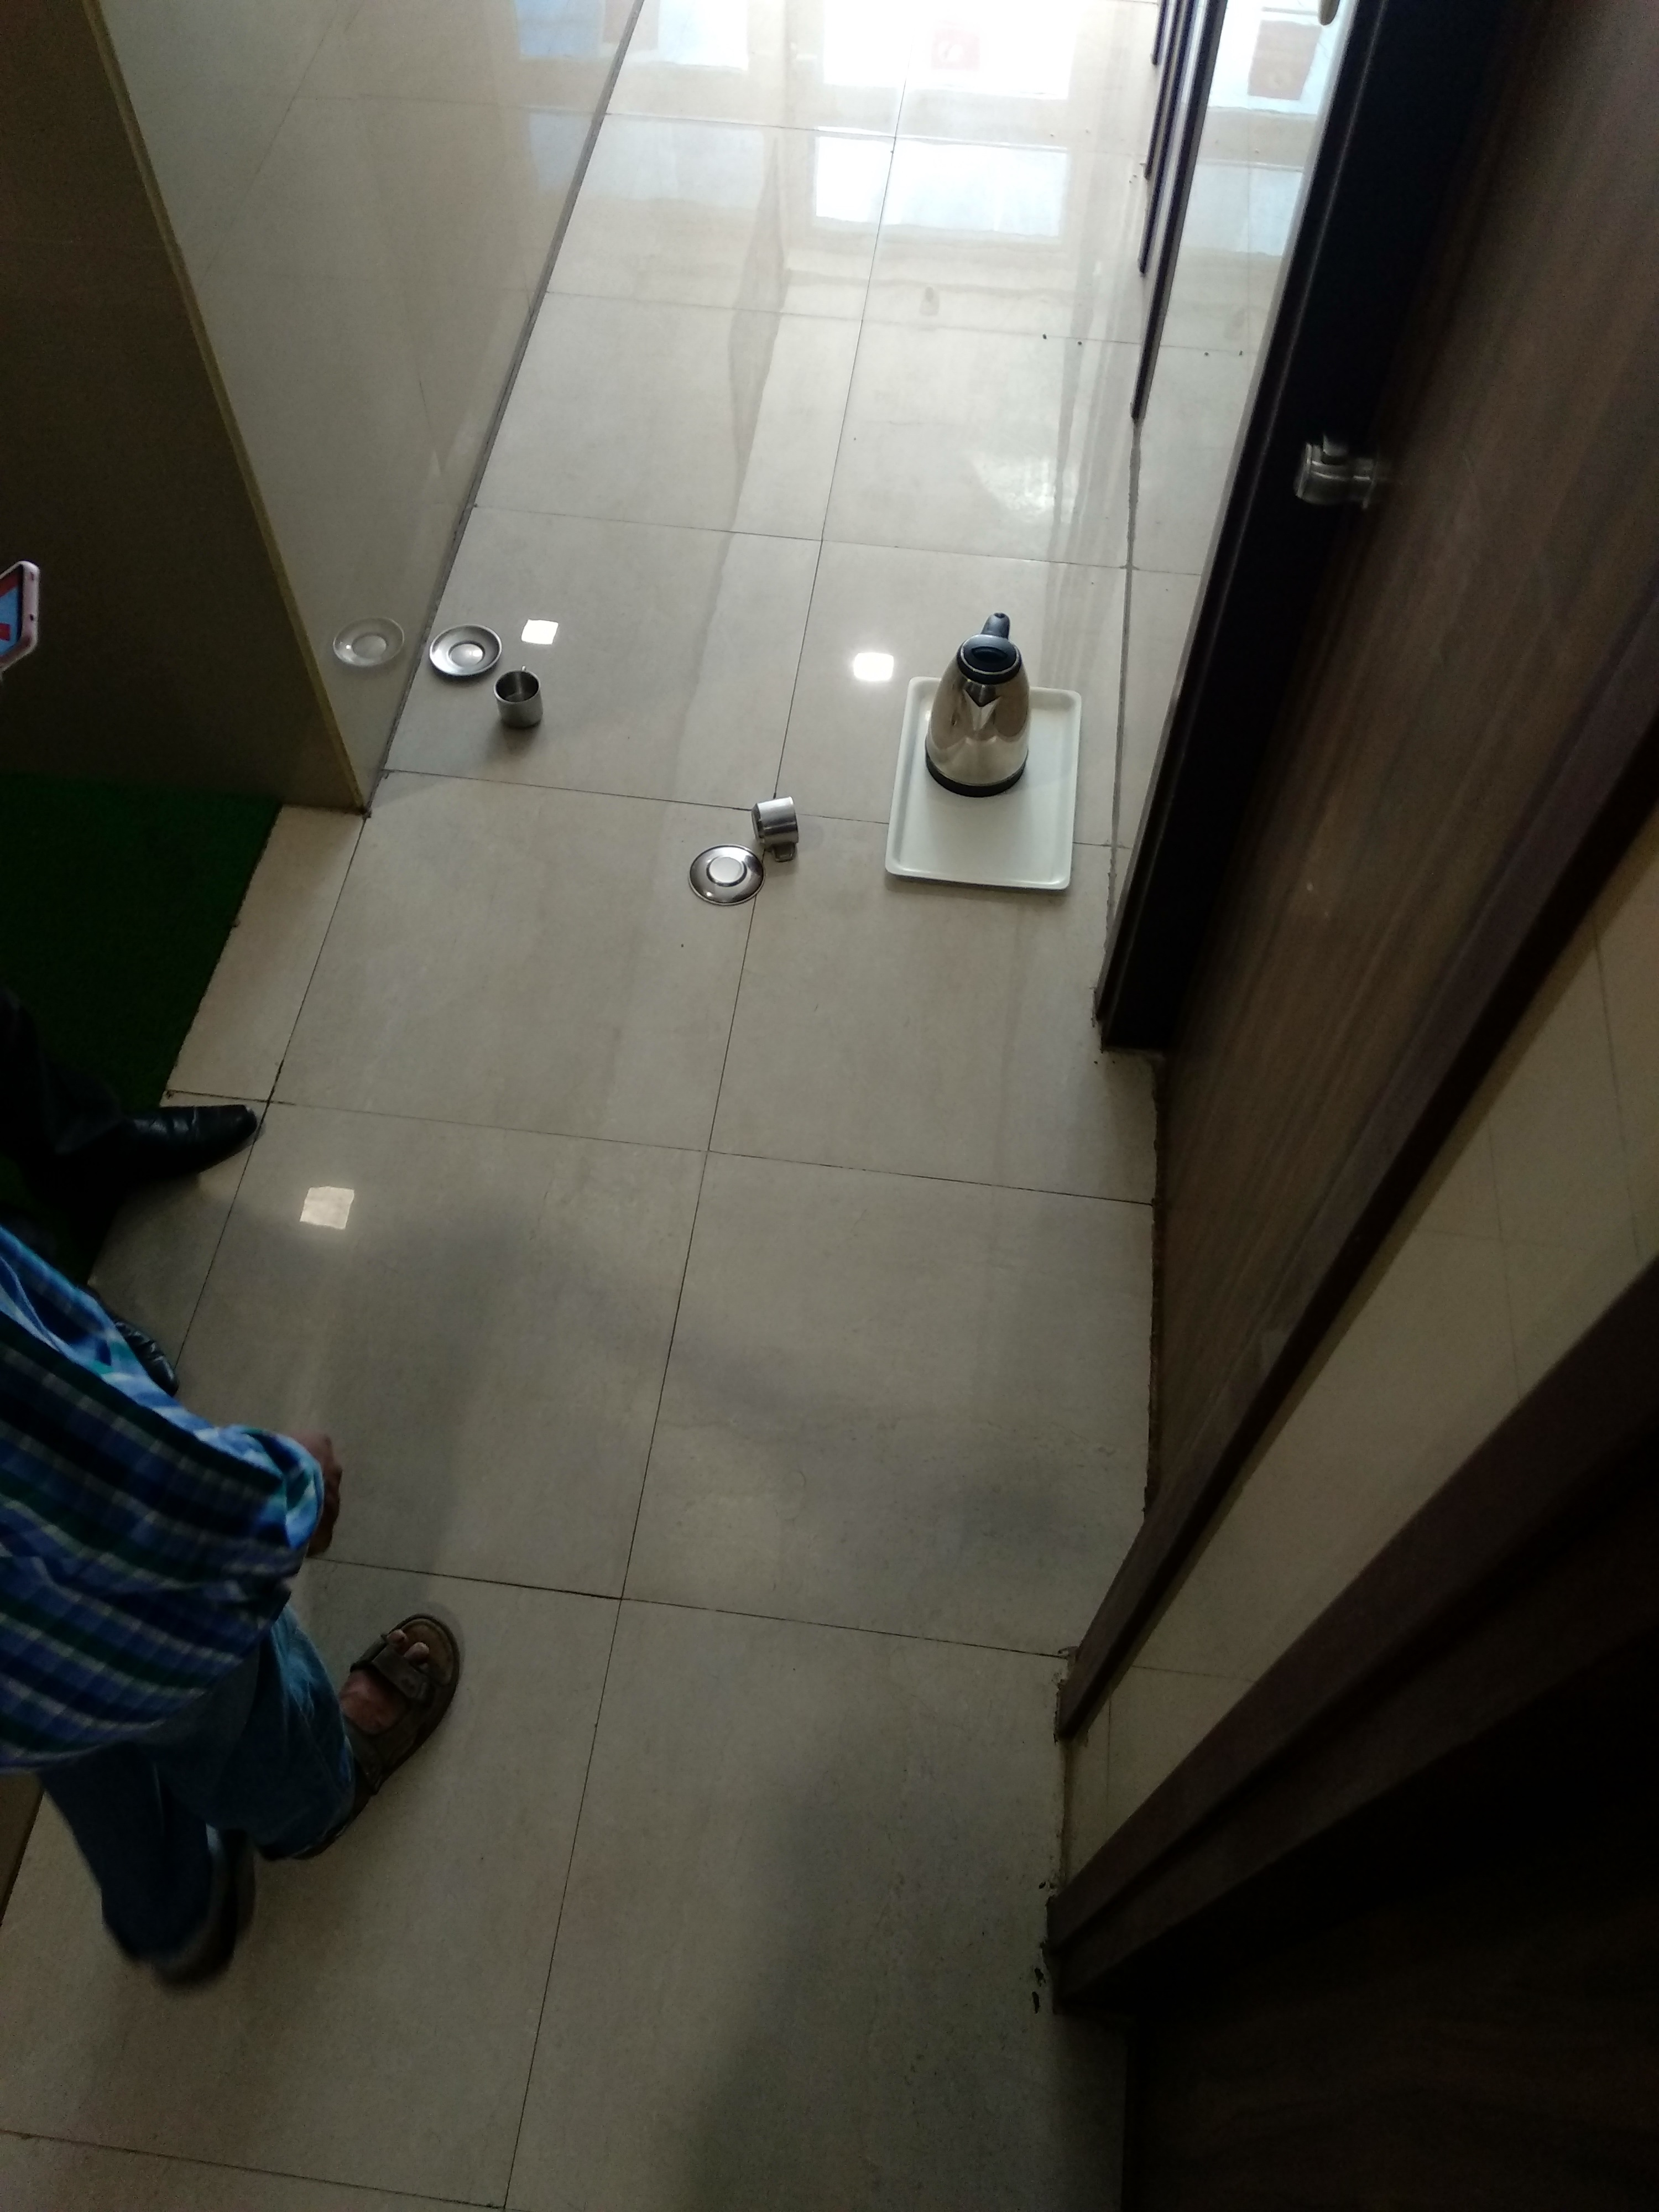CUP: (493, 669, 551, 730), (756, 798, 796, 862)
FLASK: (946, 620, 1039, 798)
